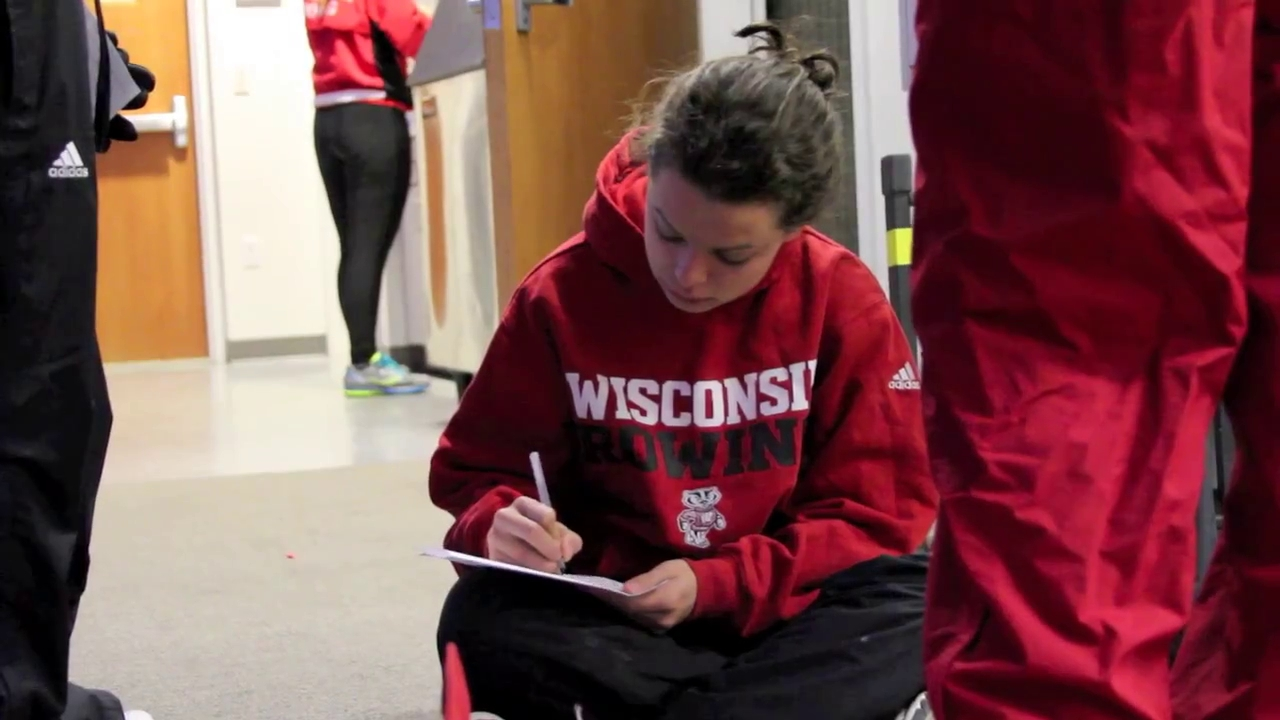person: (426, 21, 942, 719)
